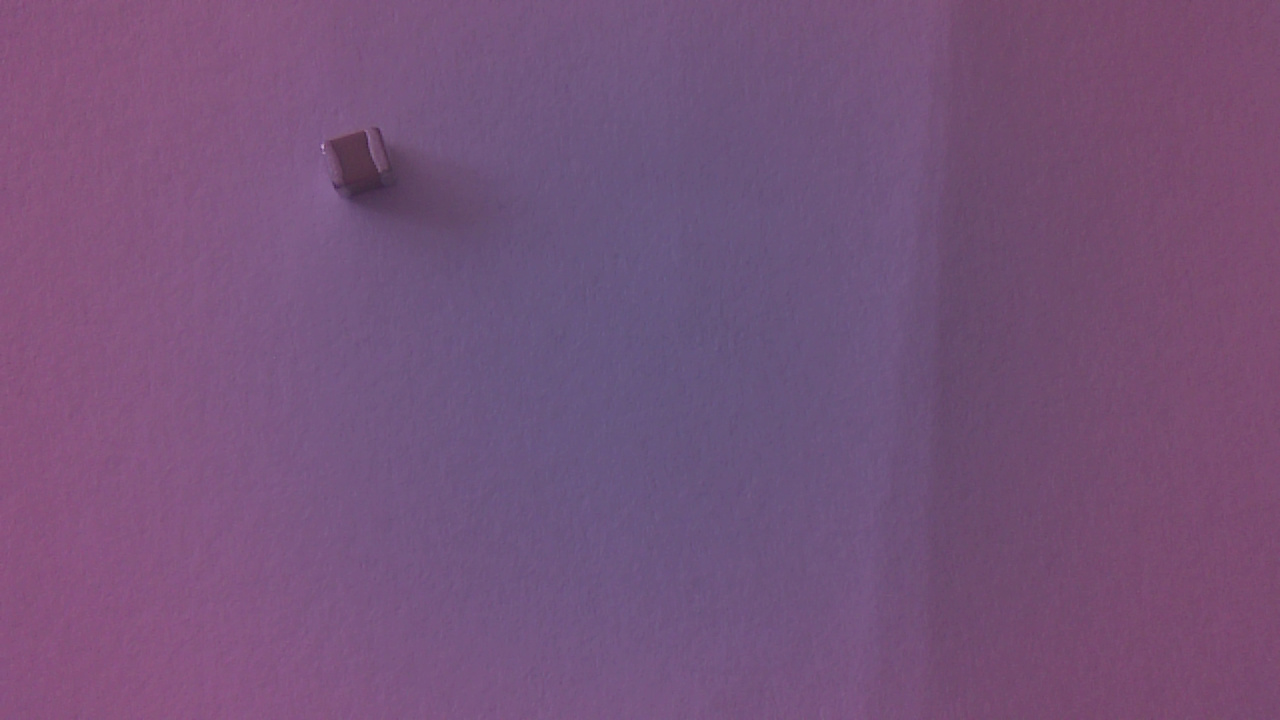Condensator: (319, 129, 415, 208)
